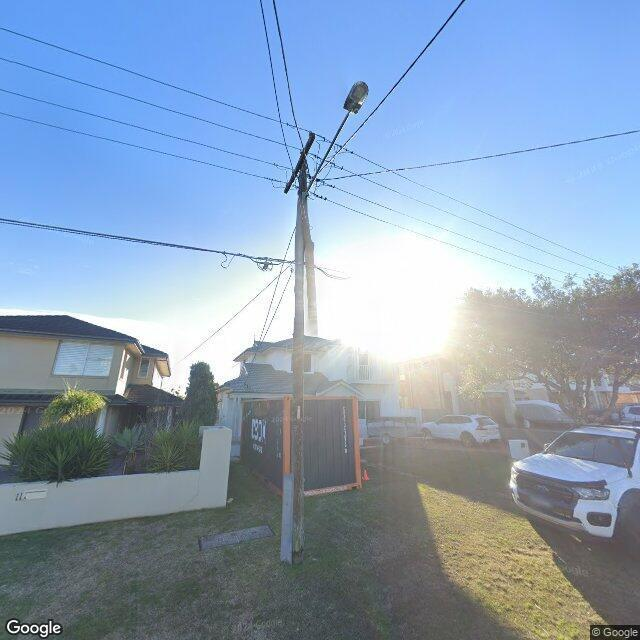crossarm: (285, 133, 316, 195)
streetlight: (304, 83, 370, 204)
timber-pole: (280, 157, 309, 568)
